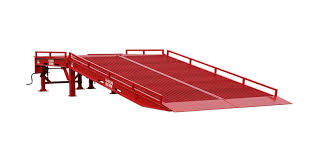Yard Ramp: (33, 48, 292, 112)
